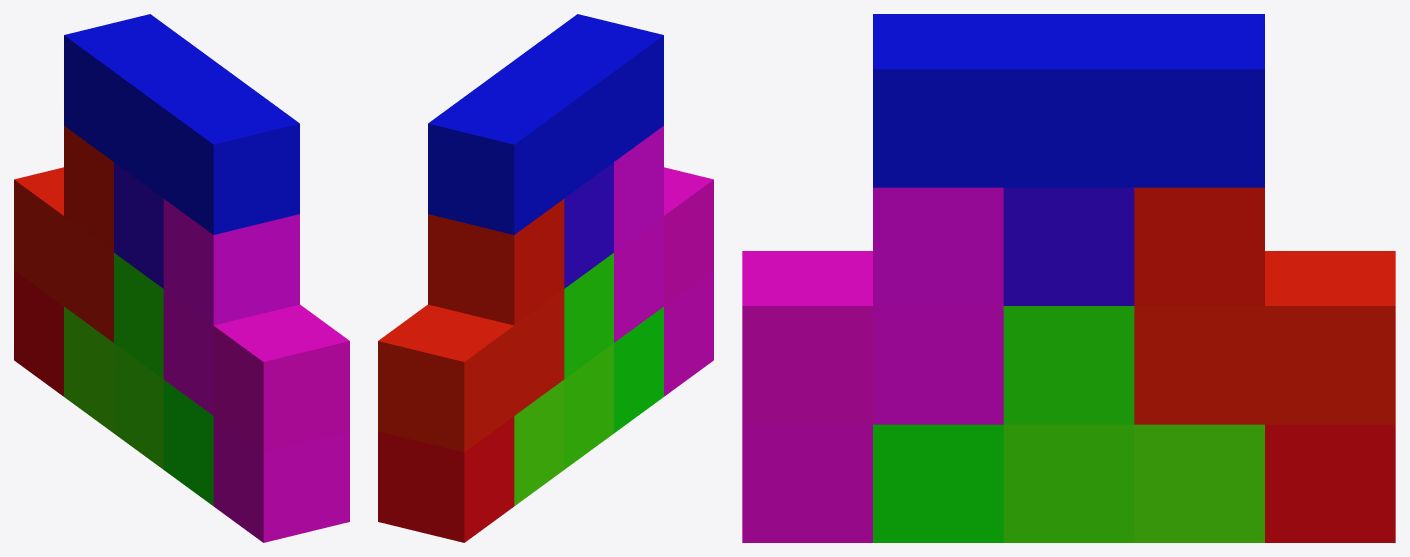
File: NightLight.fbx
The picture shows the model from 3 angles, left to right: view 1: azimuth 30°, elevation 25°; view 2: azimuth 150°, elevation 25°; view 3: azimuth 270°, elevation 25°; orthographic projection. The views are drawn at different scales.
Visible parts, largest first — view 1: Cube.010, Cube.015, Cube.013, Cube.007, Cube.012, Cube.001, Cube.005, Cube.014, Cube, Cube.003, Cube.004, Cube.006 (+4 smaller); view 2: Cube.001, Cube.005, Cube.006, Cube.009, Cube.012, Cube.010, Cube.015, Cube.003, Cube.004, Cube, Cube.007, Cube.013 (+4 smaller); view 3: Cube.012, Cube.001, Cube.005, Cube.010, Cube.015, Cube.002, Cube.008, Cube.011, Cube, Cube.003, Cube.004, Cube.006 (+4 smaller).
Boxes of the visible parts, bbox=[...] form: Cube.010: bbox=[163, 87, 299, 234]; Cube.015: bbox=[213, 304, 349, 452]; Cube.013: bbox=[213, 416, 349, 542]; Cube.007: bbox=[163, 199, 299, 325]; Cube.012: bbox=[114, 50, 249, 198]; Cube.001: bbox=[64, 14, 199, 161]; Cube.005: bbox=[14, 167, 63, 305]; Cube.014: bbox=[163, 289, 213, 415]; Cube: bbox=[163, 380, 213, 505]; Cube.003: bbox=[64, 216, 113, 342]; Cube.004: bbox=[64, 307, 113, 433]; Cube.006: bbox=[14, 270, 63, 396]; Cube.001: bbox=[428, 87, 564, 234]; Cube.005: bbox=[378, 304, 514, 452]; Cube.006: bbox=[378, 416, 514, 542]; Cube.009: bbox=[428, 199, 564, 325]; Cube.012: bbox=[478, 50, 613, 198]; Cube.010: bbox=[528, 14, 663, 161]; Cube.015: bbox=[664, 167, 713, 305]; Cube.003: bbox=[514, 289, 564, 415]; Cube.004: bbox=[514, 380, 564, 505]; Cube: bbox=[614, 307, 663, 433]; Cube.007: bbox=[614, 126, 663, 252]; Cube.013: bbox=[664, 270, 713, 396]; Cube.012: bbox=[1003, 14, 1134, 187]; Cube.001: bbox=[1134, 14, 1264, 187]; Cube.005: bbox=[1265, 251, 1395, 424]; Cube.010: bbox=[873, 14, 1003, 187]; Cube.015: bbox=[742, 251, 872, 424]; Cube.002: bbox=[1003, 306, 1134, 424]; Cube.008: bbox=[1003, 187, 1134, 305]; Cube.011: bbox=[1003, 424, 1134, 542]; Cube: bbox=[873, 424, 1003, 542]; Cube.003: bbox=[1134, 306, 1264, 424]; Cube.004: bbox=[1134, 424, 1264, 542]; Cube.006: bbox=[1265, 424, 1395, 542].
Bounding box in the file's own units: 200 × 800 × 1000.
